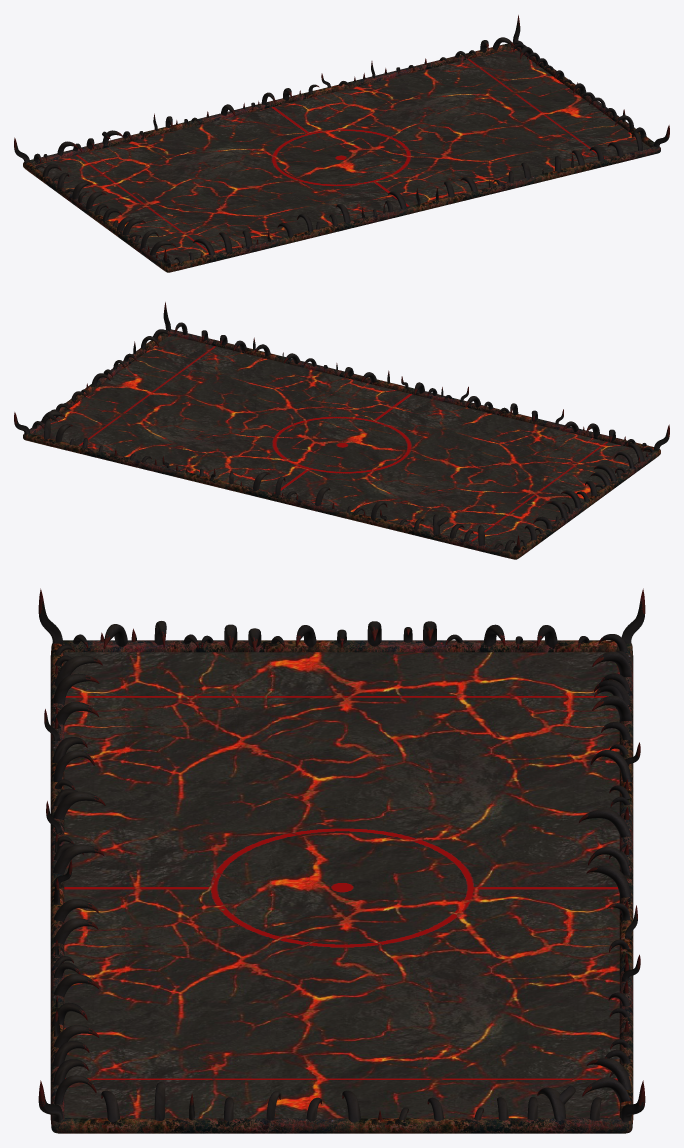
Rendered from MagmaTable.fbx.
3 views of the same model, one above another, from view 1: azimuth 30°, elevation 25°; view 2: azimuth 150°, elevation 25°; view 3: azimuth 270°, elevation 25° (orthographic). The views are drawn at different scales.
Parts seen in each view (by area): view 1: MagmaField, MagmaBorder, Claws; view 2: MagmaField, MagmaBorder, Claws; view 3: MagmaField, Claws, MagmaBorder.
Boxes of the visible parts, left/top/right/bottom form: MagmaField: left=33, top=48, right=649, bottom=264; MagmaBorder: left=23, top=42, right=660, bottom=272; Claws: left=14, top=15, right=669, bottom=267; MagmaField: left=34, top=335, right=650, bottom=551; MagmaBorder: left=23, top=329, right=660, bottom=559; Claws: left=14, top=302, right=669, bottom=554; MagmaField: left=64, top=652, right=619, bottom=1118; Claws: left=38, top=588, right=645, bottom=1122; MagmaBorder: left=50, top=640, right=633, bottom=1133.
Bounding box in the file's own units: 4042 × 229 × 2100.
